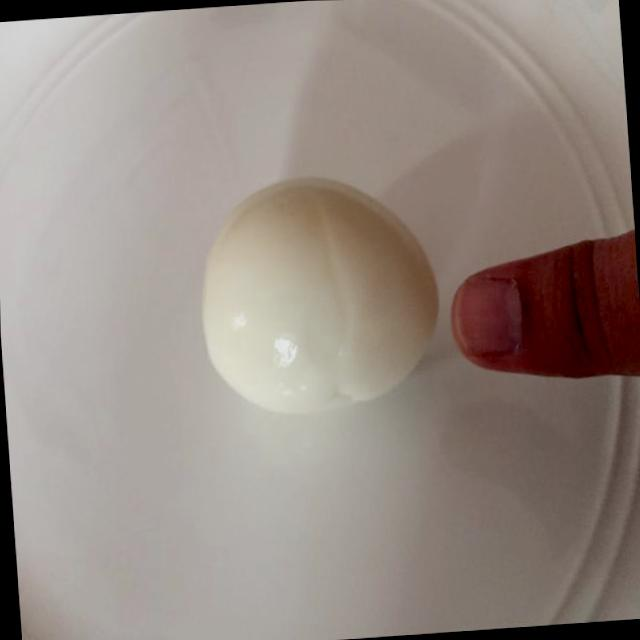Egg: (182, 162, 452, 430)
Finger: (438, 226, 622, 396)
